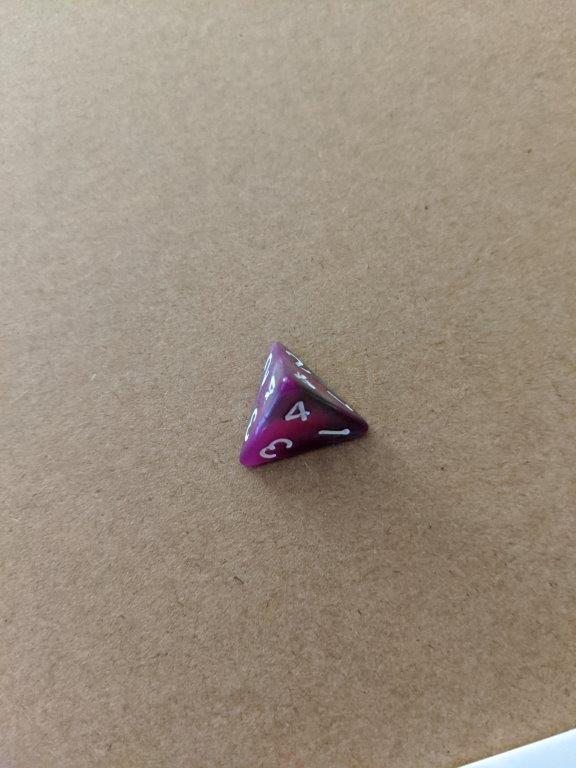d4-4: (231, 339, 371, 473)
